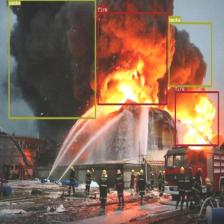fire: (97, 12, 168, 105), (174, 91, 218, 146)
smoke: (8, 0, 95, 119), (168, 22, 212, 87)
